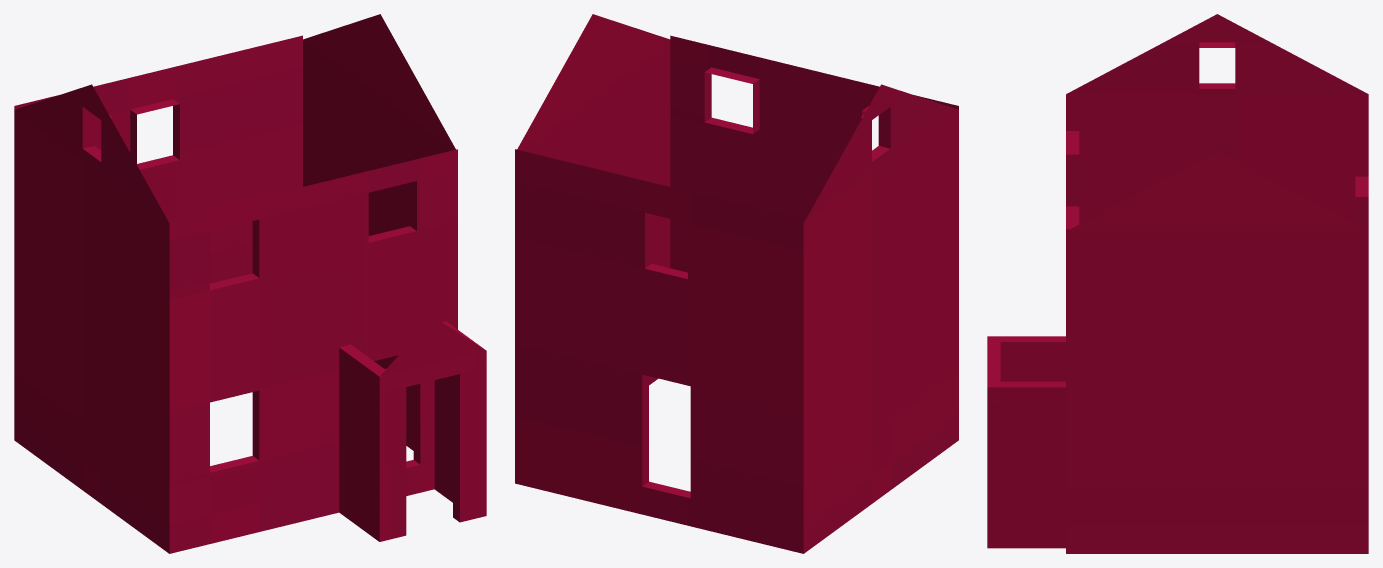
The model's file is SM_Bld_188_Masonry.glb.
3 renders of one model, left to right at view 1: azimuth 30°, elevation 25°; view 2: azimuth 150°, elevation 25°; view 3: azimuth 270°, elevation 25°, orthographic. The views are drawn at different scales.
Parts seen in each view (by area): view 1: SM_Bld_188_Masonry; view 2: SM_Bld_188_Masonry; view 3: SM_Bld_188_Masonry.
Boxes of the visible parts, x1,y1,x2,y2 form: SM_Bld_188_Masonry: [14, 14, 486, 553]; SM_Bld_188_Masonry: [515, 14, 958, 553]; SM_Bld_188_Masonry: [987, 14, 1368, 553].
Bounding box in the file's own units: 5.39 × 7.37 × 6.33.
